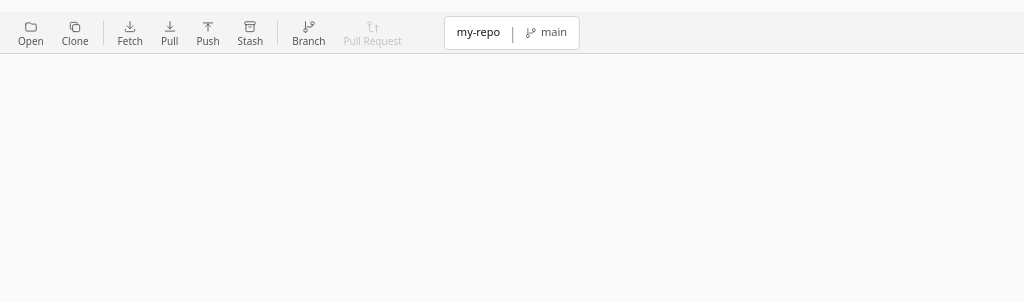
Test: ActionToolbar › Pull flyover › displays pull errors
Click the button with test id "toolbar-btn-Pull" at point(170, 32), box [153,16,186,50]
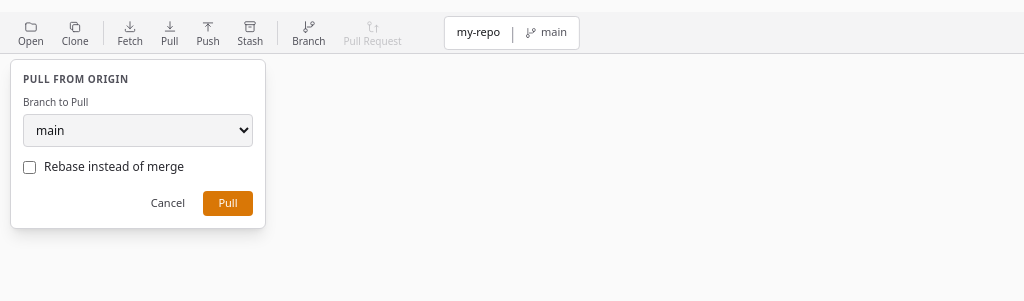
Click the button "Pull" below "Rebase instead of merge" at point(228, 203), box [203,191,253,216]
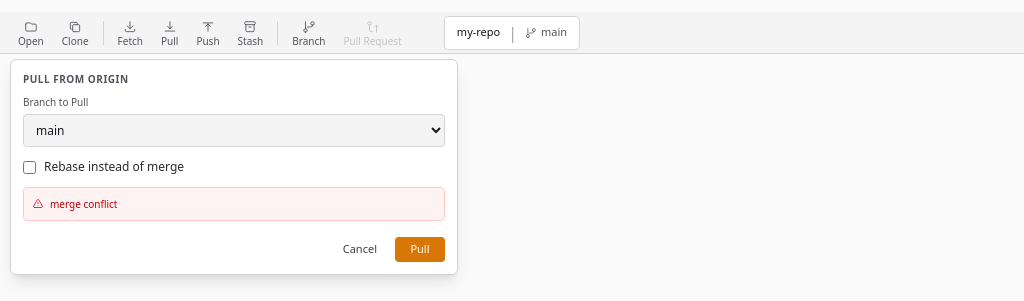
Expected: the text "merge conflict" is shown, [50,196,118,212]
